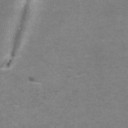finishing roll printing: (6, 0, 30, 67), (28, 76, 34, 82)
